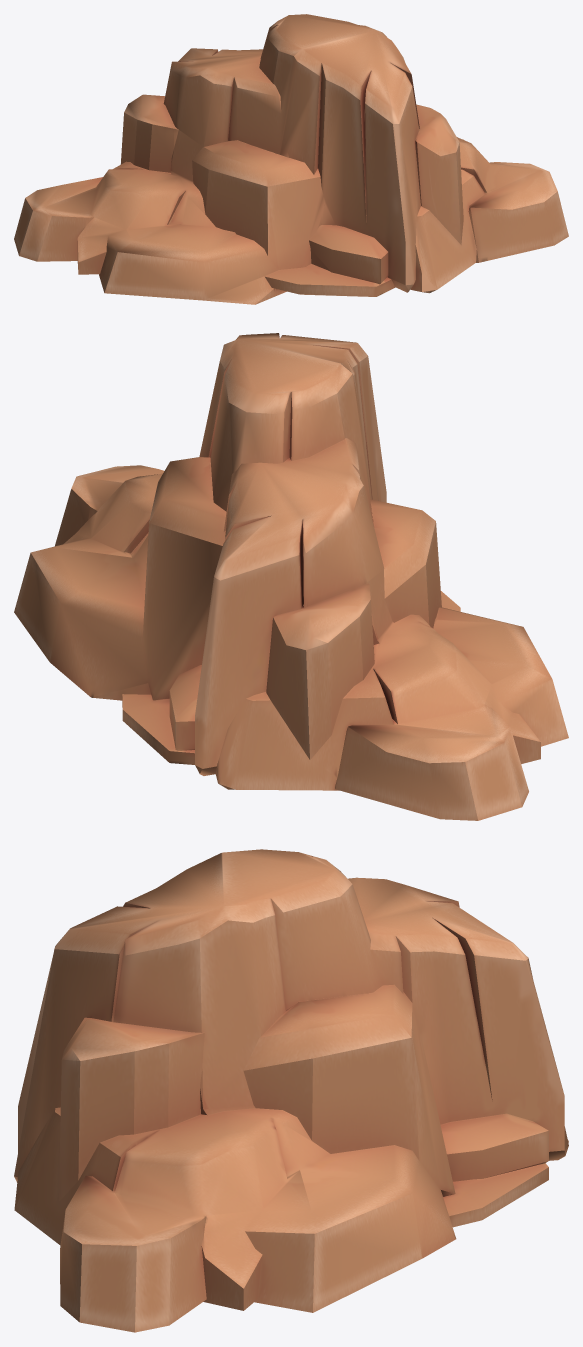
File: Roca_ZonaAviador_5.fbx
3 views of the same model, one above another, from view 1: azimuth 30°, elevation 25°; view 2: azimuth 150°, elevation 25°; view 3: azimuth 270°, elevation 25° (orthographic). The views are drawn at different scales.
Visible parts, largest first — view 1: Rock_6; view 2: Rock_6; view 3: Rock_6.
Boxes of the visible parts, <box> form: Rock_6: <box>14,14,568,304</box>; Rock_6: <box>14,333,568,820</box>; Rock_6: <box>14,849,568,1332</box>.
Bounding box in the file's own units: 1030 × 484 × 752.
